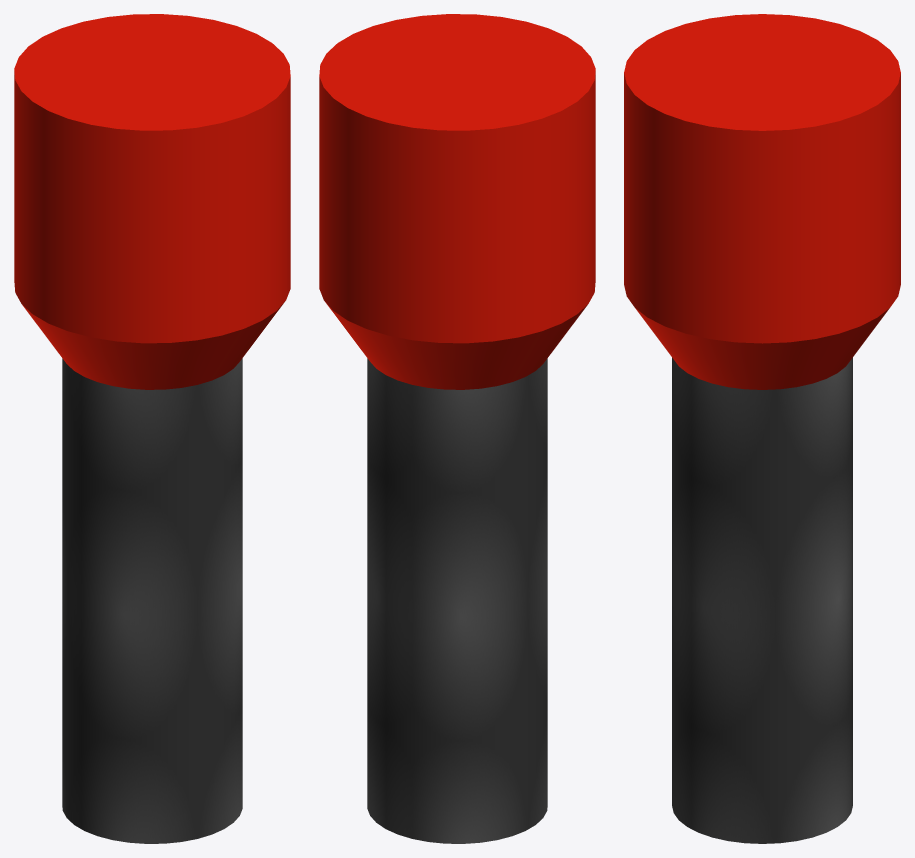
File: wirecap.fbx
The picture shows the model from 3 angles, left to right: view 1: azimuth 30°, elevation 25°; view 2: azimuth 150°, elevation 25°; view 3: azimuth 270°, elevation 25°; orthographic projection.
Parts seen in each view (by area): view 1: Wire Cap; view 2: Wire Cap; view 3: Wire Cap.
Part boxes in pixels (x1=…): Wire Cap: x1=14, y1=14, x2=290, y2=843; Wire Cap: x1=319, y1=14, x2=595, y2=843; Wire Cap: x1=624, y1=14, x2=900, y2=843.
Size of the model in its own units: 14.63 by 42.75 by 14.63.
Materials: 2 (1 with a texture image).
